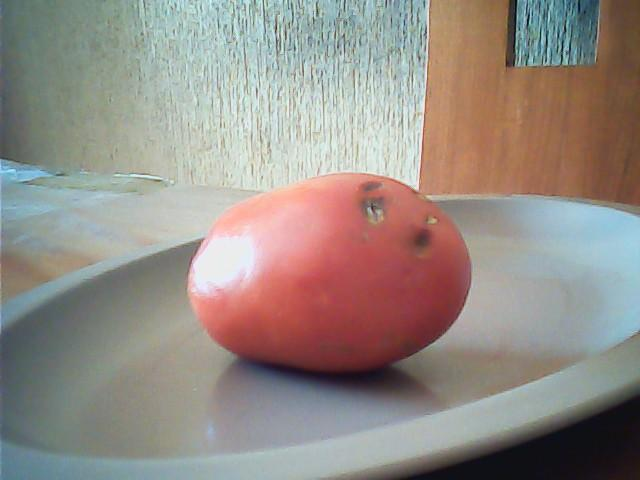defectuoso: (175, 172, 477, 373)
